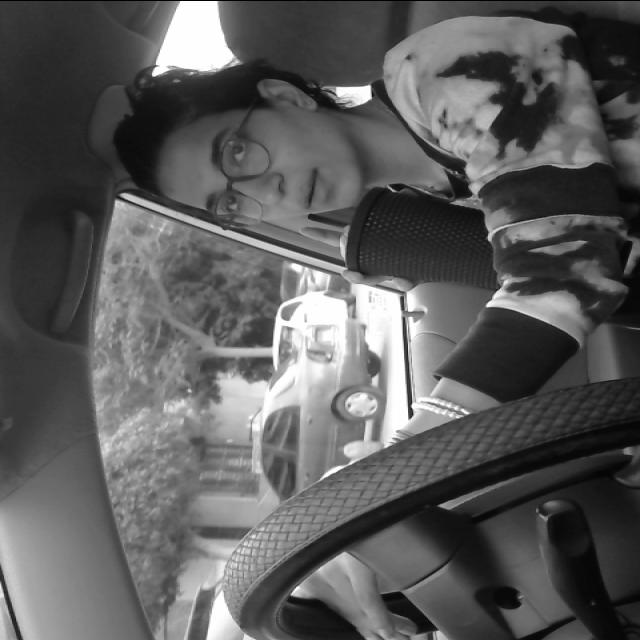drinking: (308, 183, 600, 293)
